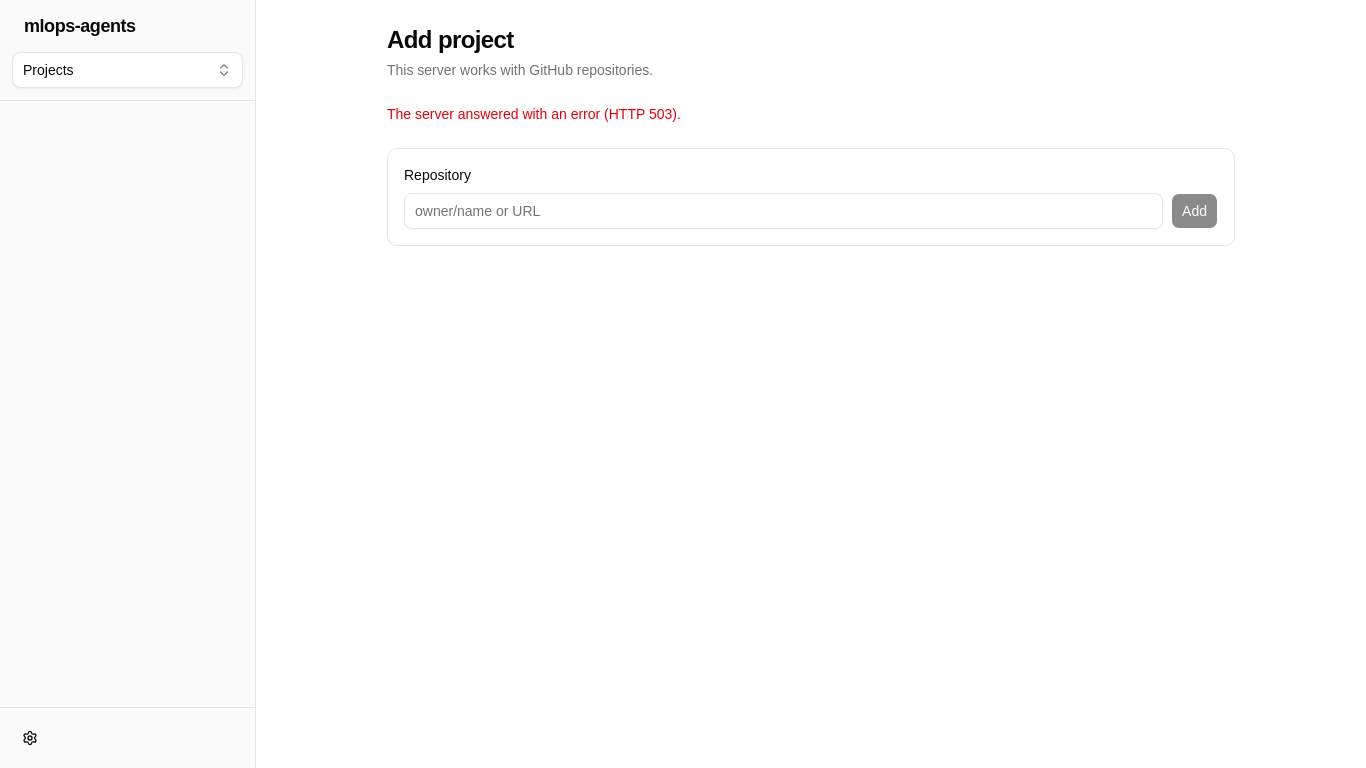
Test: shows a failed repositories lookup and still accepts a manually entered repository
Expected: the message reads "The server answered with an error (HTTP 503).", [387,106,681,122]
Expected: the text "No repositories found" is not shown
Type "owner/repo" into the dropdown labelled "Repository" at (784, 211), box [404,193,1163,229]
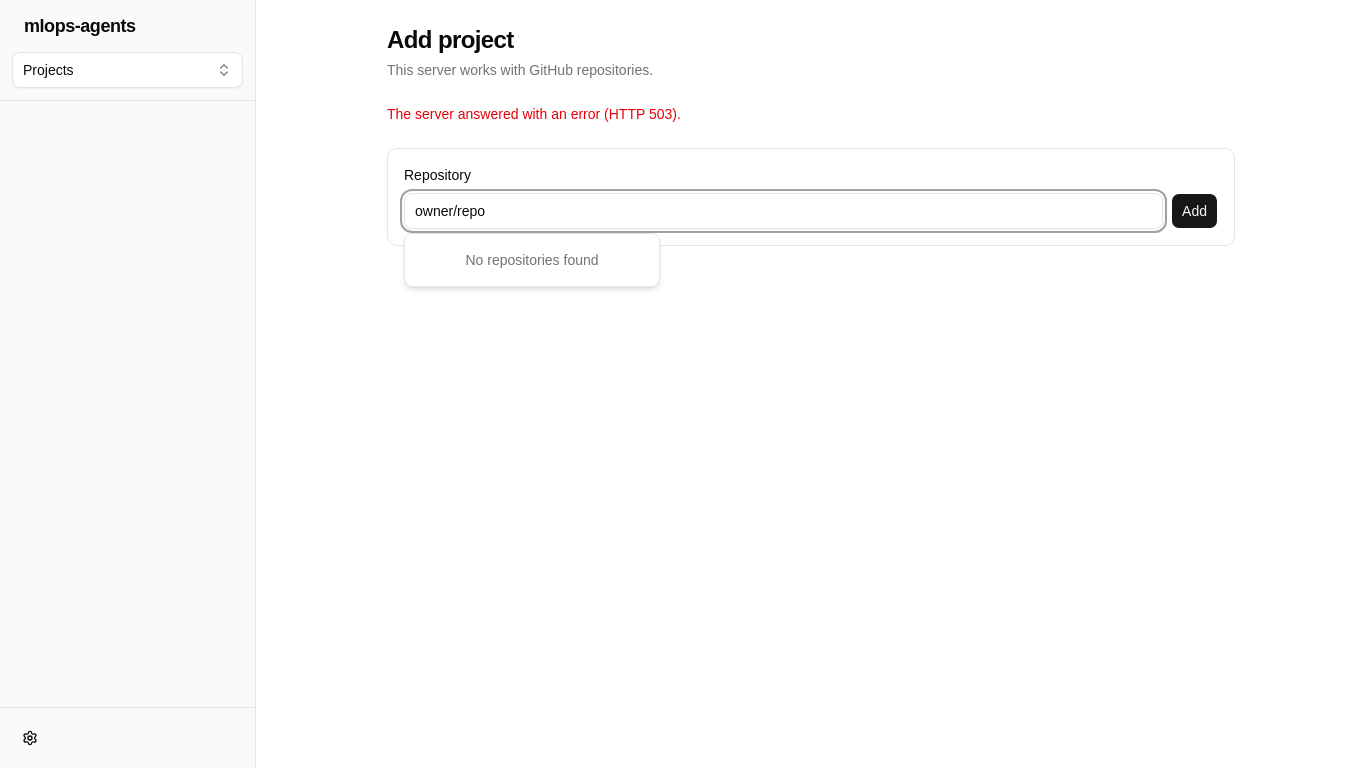
Click the button "Add" at (1195, 211), box [1171,193,1218,229]
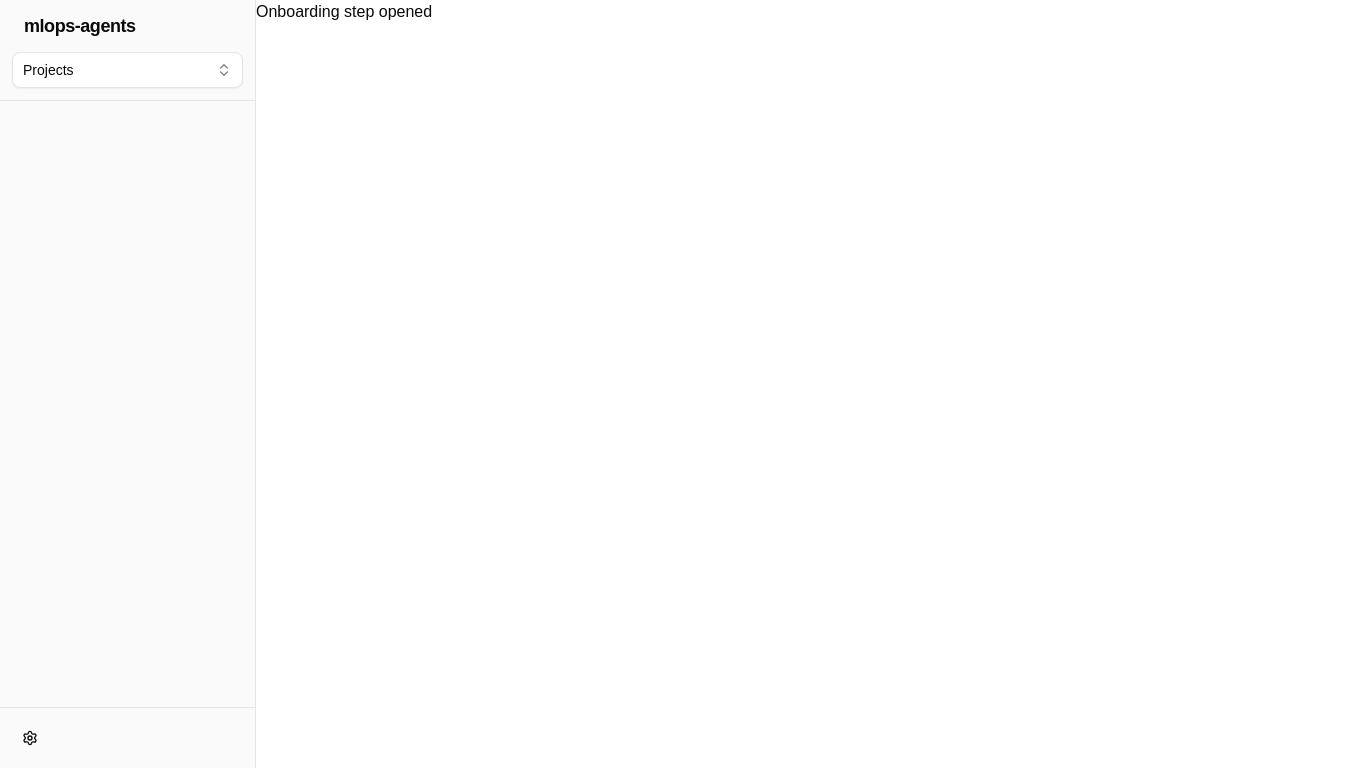
Expected: the heading "Onboarding step opened" is shown, [256,3,432,20]
